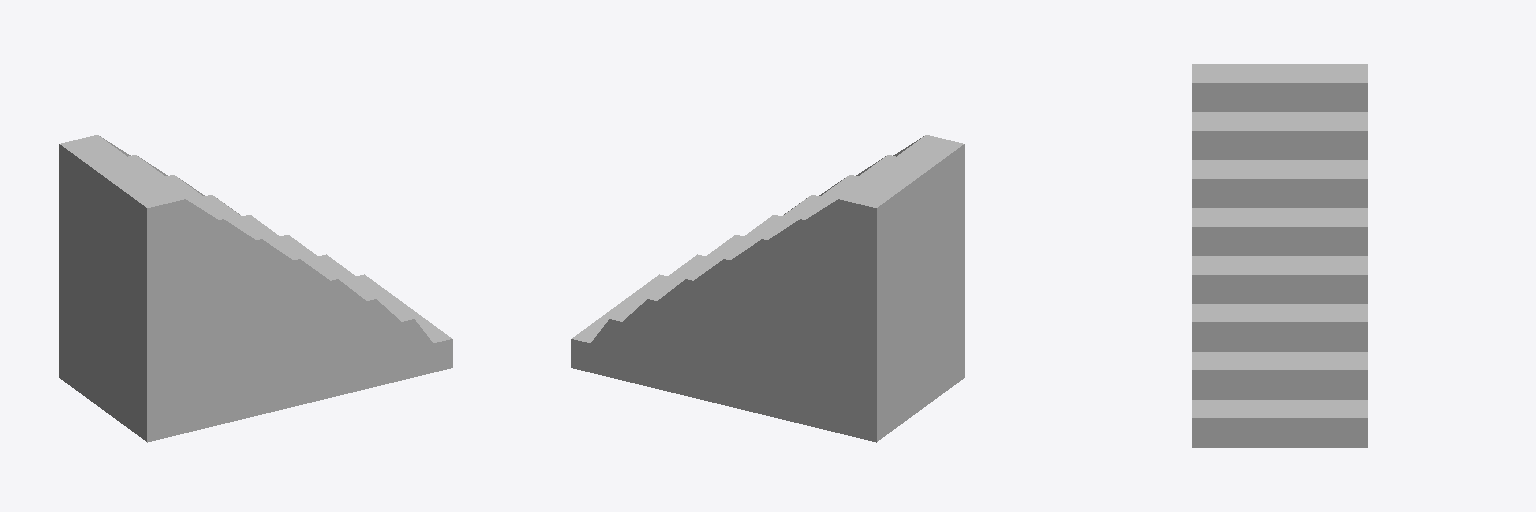
File: Stairs_Stone_01.obj
3 views of the same model, side by side, from view 1: azimuth 30°, elevation 25°; view 2: azimuth 150°, elevation 25°; view 3: azimuth 270°, elevation 25° (orthographic).
Parts seen in each view (by area): view 1: Mesh1 Stairs_Stone Model; view 2: Mesh1 Stairs_Stone Model; view 3: Mesh1 Stairs_Stone Model.
Boxes of the visible parts, x1=… form: Mesh1 Stairs_Stone Model: x1=59, y1=135, x2=452, y2=442; Mesh1 Stairs_Stone Model: x1=571, y1=135, x2=964, y2=442; Mesh1 Stairs_Stone Model: x1=1192, y1=64, x2=1367, y2=447.
Size of the model in its own units: 3 by 2.2 by 1.5.